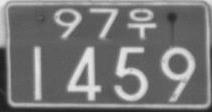1: (23, 45, 54, 100)
4: (67, 45, 101, 101)
5: (113, 46, 149, 102)
7: (89, 7, 119, 38)
9: (160, 45, 196, 103), (53, 7, 82, 39)
우: (127, 7, 157, 39)
